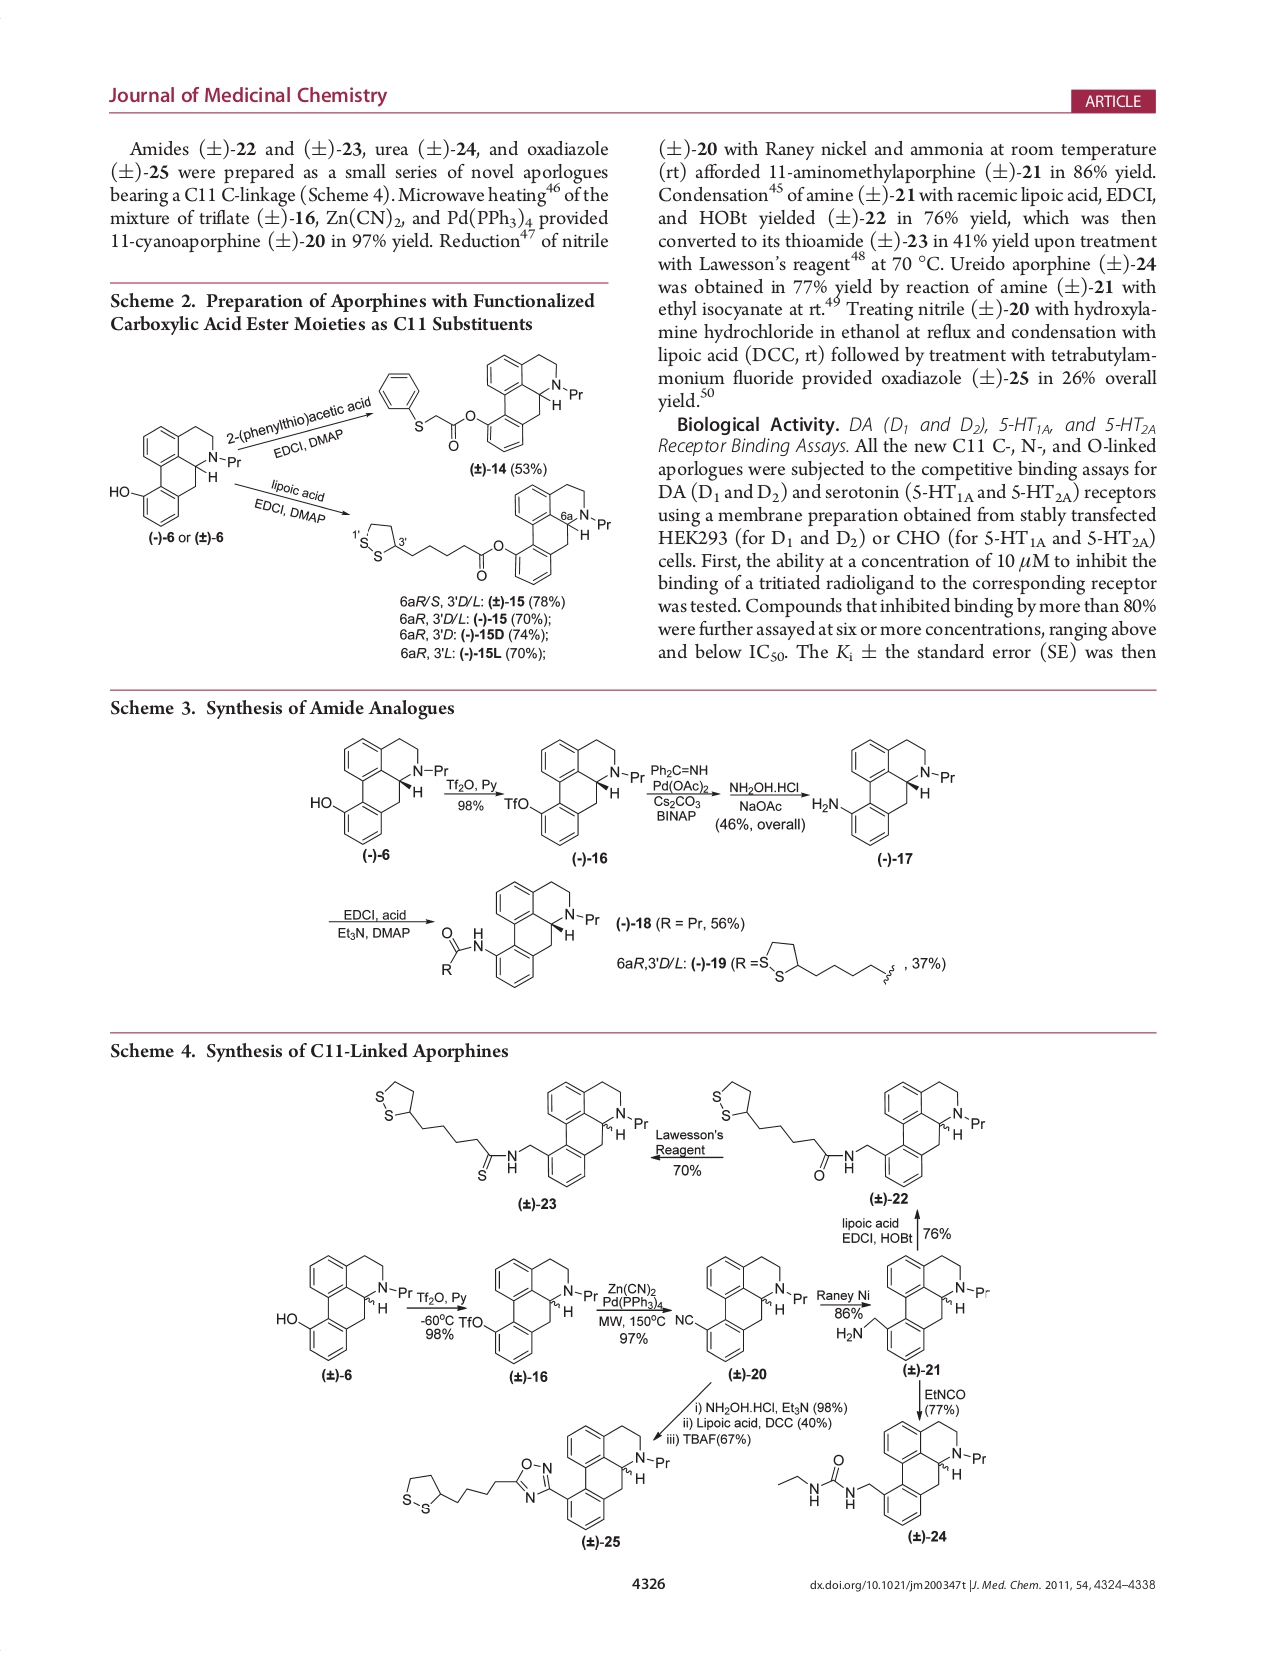exist_molecular: (710, 1076, 987, 1190), (372, 1076, 650, 1189), (399, 1424, 672, 1532), (359, 481, 614, 586), (777, 1419, 987, 1529), (375, 352, 586, 455), (438, 876, 601, 991), (832, 1253, 992, 1364), (809, 735, 956, 847), (503, 735, 648, 848), (271, 1251, 415, 1364), (309, 734, 449, 847), (672, 1250, 809, 1364), (457, 1255, 598, 1366), (106, 422, 246, 531), (759, 939, 899, 985)
